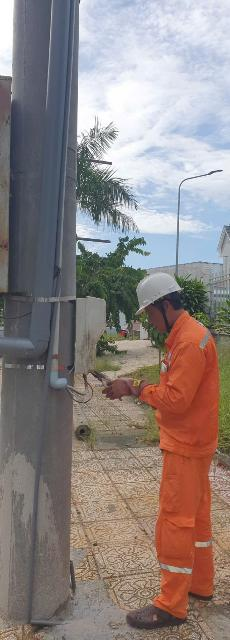gloves: (104, 364, 156, 407)
helmet: (127, 265, 193, 314)
shoes: (128, 590, 191, 633)
